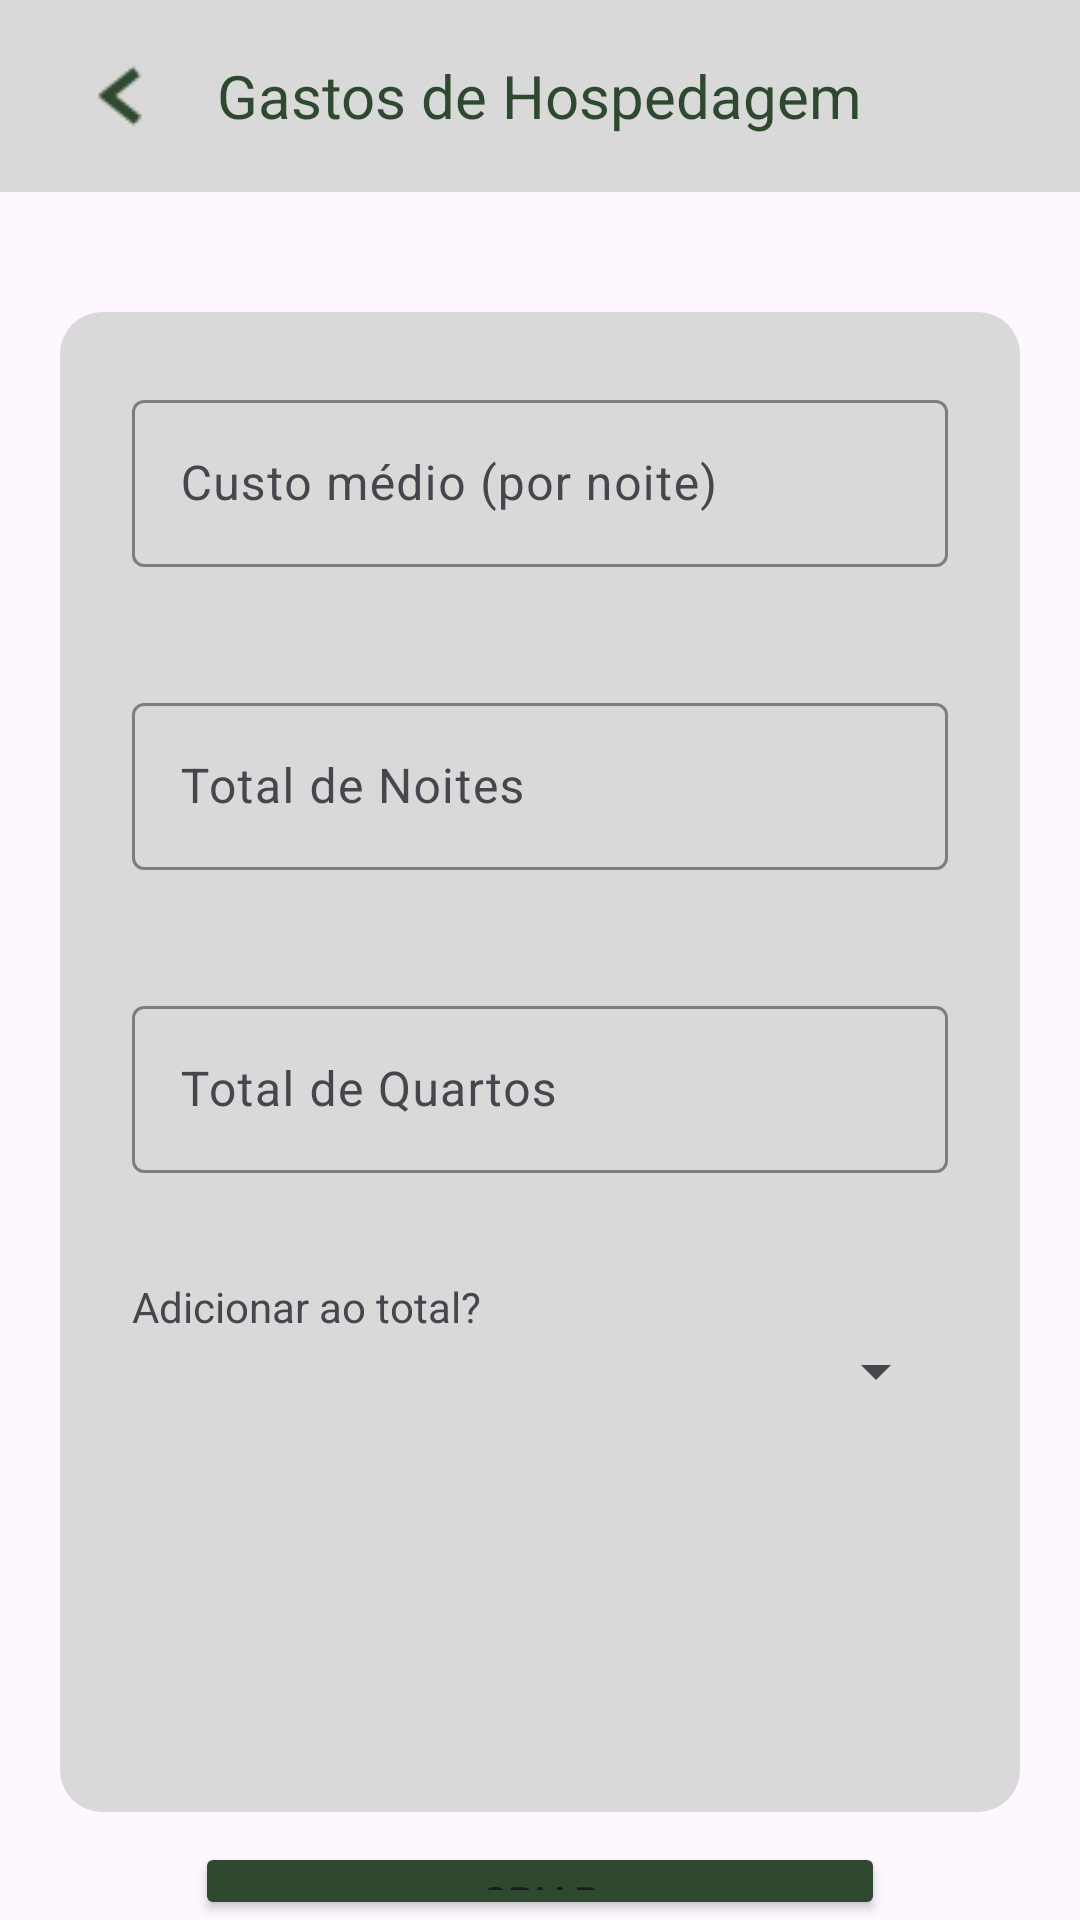

Named icons in this screenshot (1080 × 1920) and their centers, (x=x, y=y):
Voltar: (x=120, y=96)
